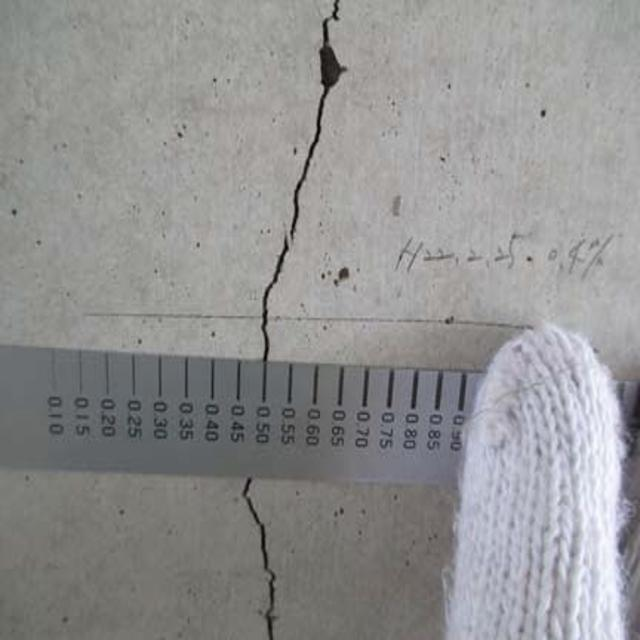crack: (247, 0, 381, 361), (224, 478, 308, 640)
